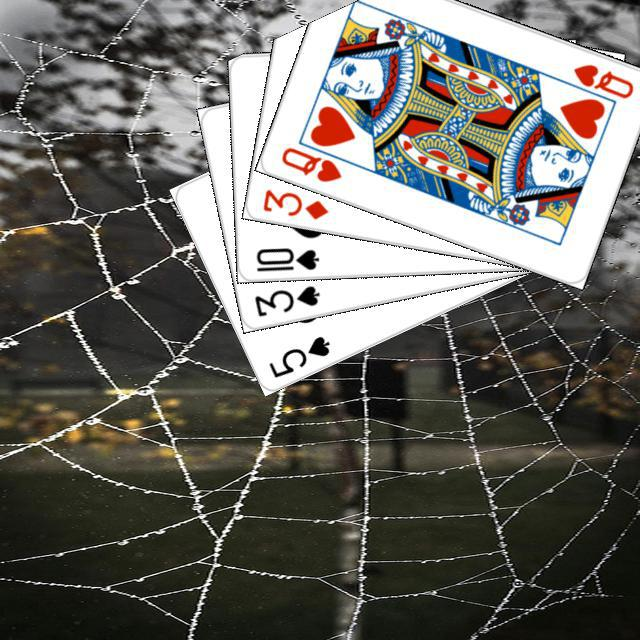10s: (251, 243, 321, 273)
3d: (258, 184, 330, 222)
3s: (249, 280, 322, 319)
5s: (263, 331, 332, 379)
Qh: (556, 59, 636, 105), (276, 142, 344, 184)
